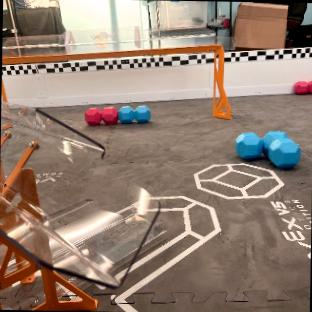Goal: (2, 25, 230, 118)
Med_goal: (0, 101, 159, 285)
V5_BLUE: (234, 130, 300, 168), (118, 106, 150, 123)
V5_RED: (84, 106, 118, 125), (294, 81, 312, 93)
